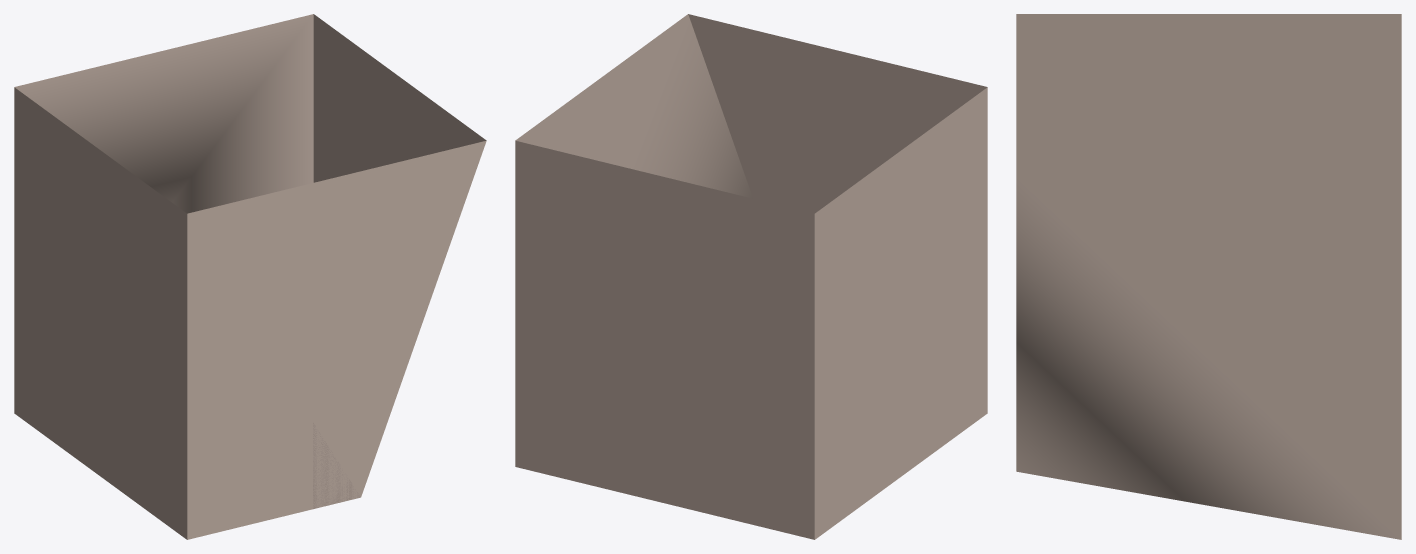
The model's file is cardboardBoxOpen.glb.
3 views of the same model, side by side, from view 1: azimuth 30°, elevation 25°; view 2: azimuth 150°, elevation 25°; view 3: azimuth 270°, elevation 25° (orthographic). The views are drawn at different scales.
Parts seen in each view (by area): view 1: cardboardBoxOpen(Clone); view 2: cardboardBoxOpen(Clone); view 3: cardboardBoxOpen(Clone).
Boxes of the visible parts, left/top/right/bottom form: cardboardBoxOpen(Clone): left=14, top=14, right=486, bottom=539; cardboardBoxOpen(Clone): left=515, top=14, right=987, bottom=539; cardboardBoxOpen(Clone): left=1016, top=14, right=1401, bottom=539.
Bounding box in the file's own units: 0.2124 × 0.221 × 0.2124.
